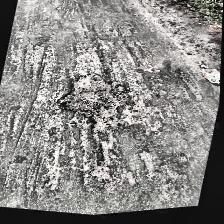pothole: (48, 66, 134, 144)
